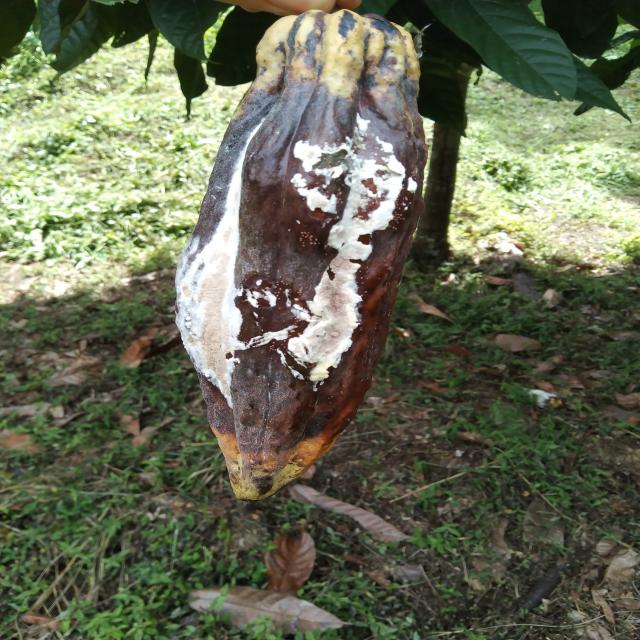Monilia: (172, 13, 428, 509)
